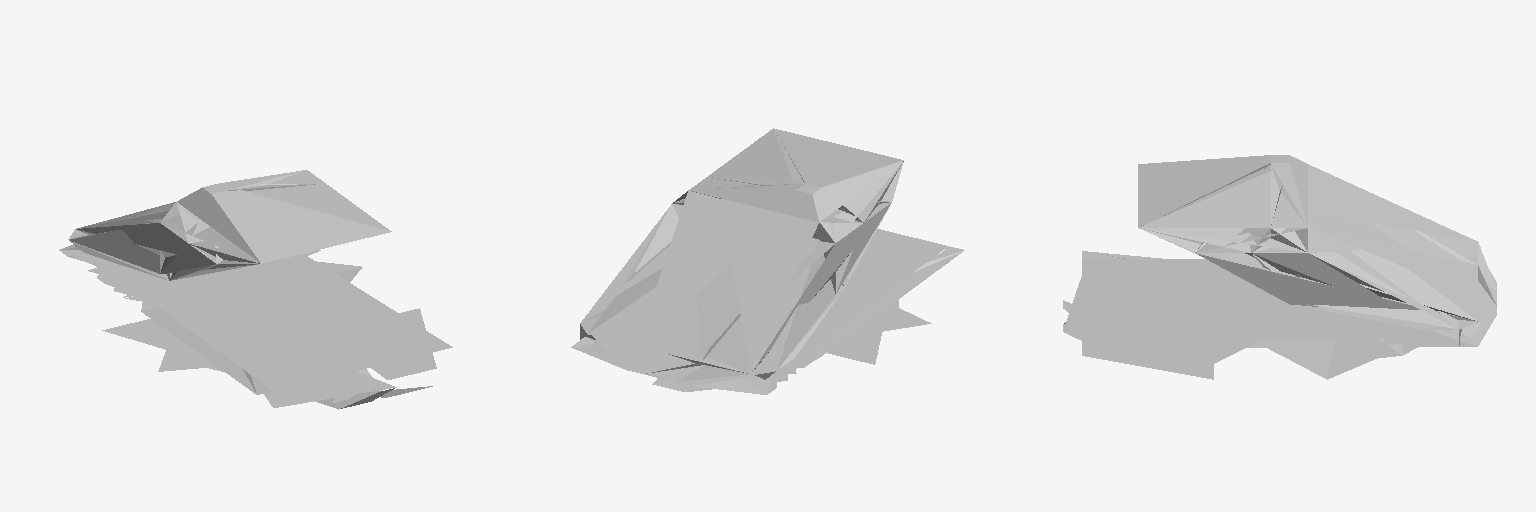
The model's file is mechSniper.obj.
The picture shows the model from 3 angles: view 1: azimuth 30°, elevation 25°; view 2: azimuth 150°, elevation 25°; view 3: azimuth 270°, elevation 25°; orthographic projection.
Bounding box in the file's own units: 16 × 9 × 23.